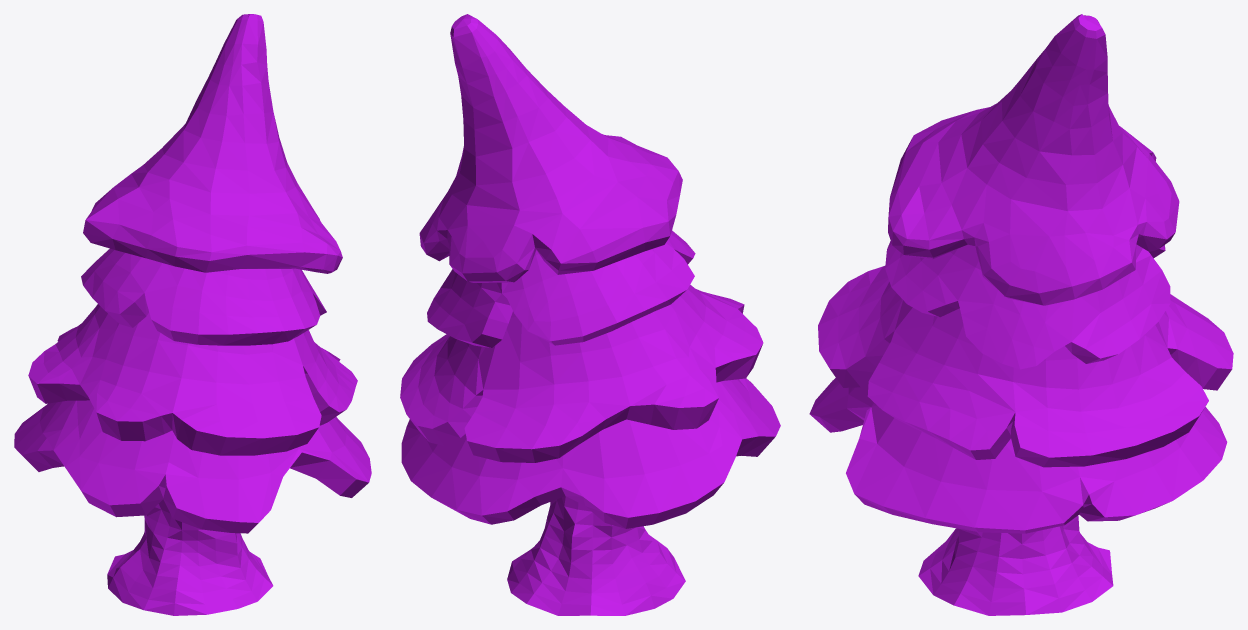
File: meowverse_tree2.glb
3 views of the same model, side by side, from view 1: azimuth 30°, elevation 25°; view 2: azimuth 150°, elevation 25°; view 3: azimuth 270°, elevation 25° (orthographic). The views are drawn at different scales.
Parts seen in each view (by area): view 1: tree1v3.001; view 2: tree1v3.001; view 3: tree1v3.001.
Part boxes in pixels (x1,y1,x2,y2): tree1v3.001: [14, 14, 371, 615]; tree1v3.001: [400, 14, 780, 615]; tree1v3.001: [809, 14, 1233, 615].
Size of the model in its own units: 0.8429 by 1.41 by 0.8846.
